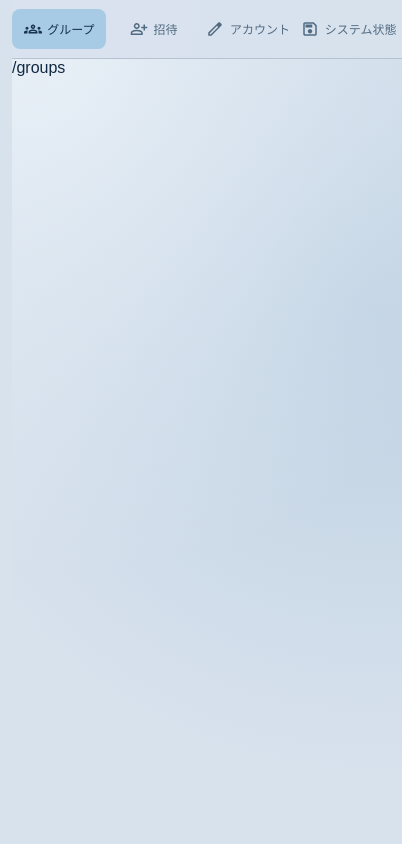
AppNavigation › shows account security under management
Click the link "アカウント": point(248, 29) left=206, top=20, right=290, bottom=38
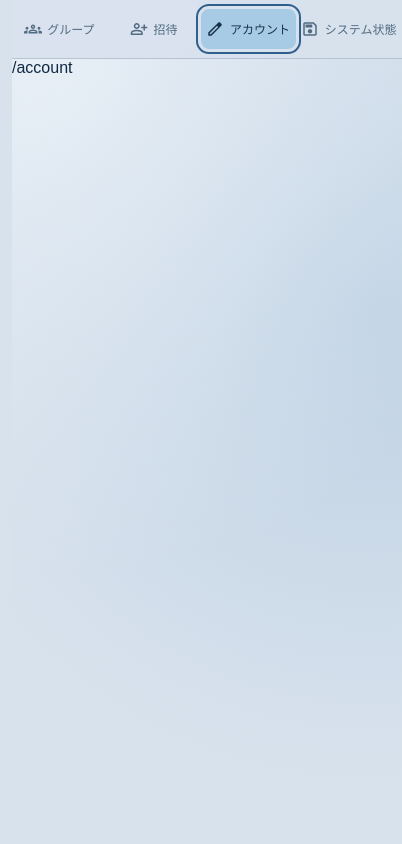
Expected: the text named "current path" reads "/account", left=12, top=59, right=72, bottom=76
